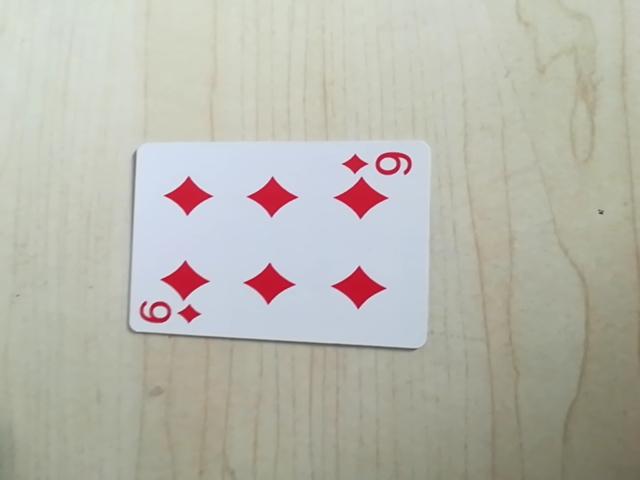fk 6: (340, 145, 415, 182), (135, 298, 204, 332)
